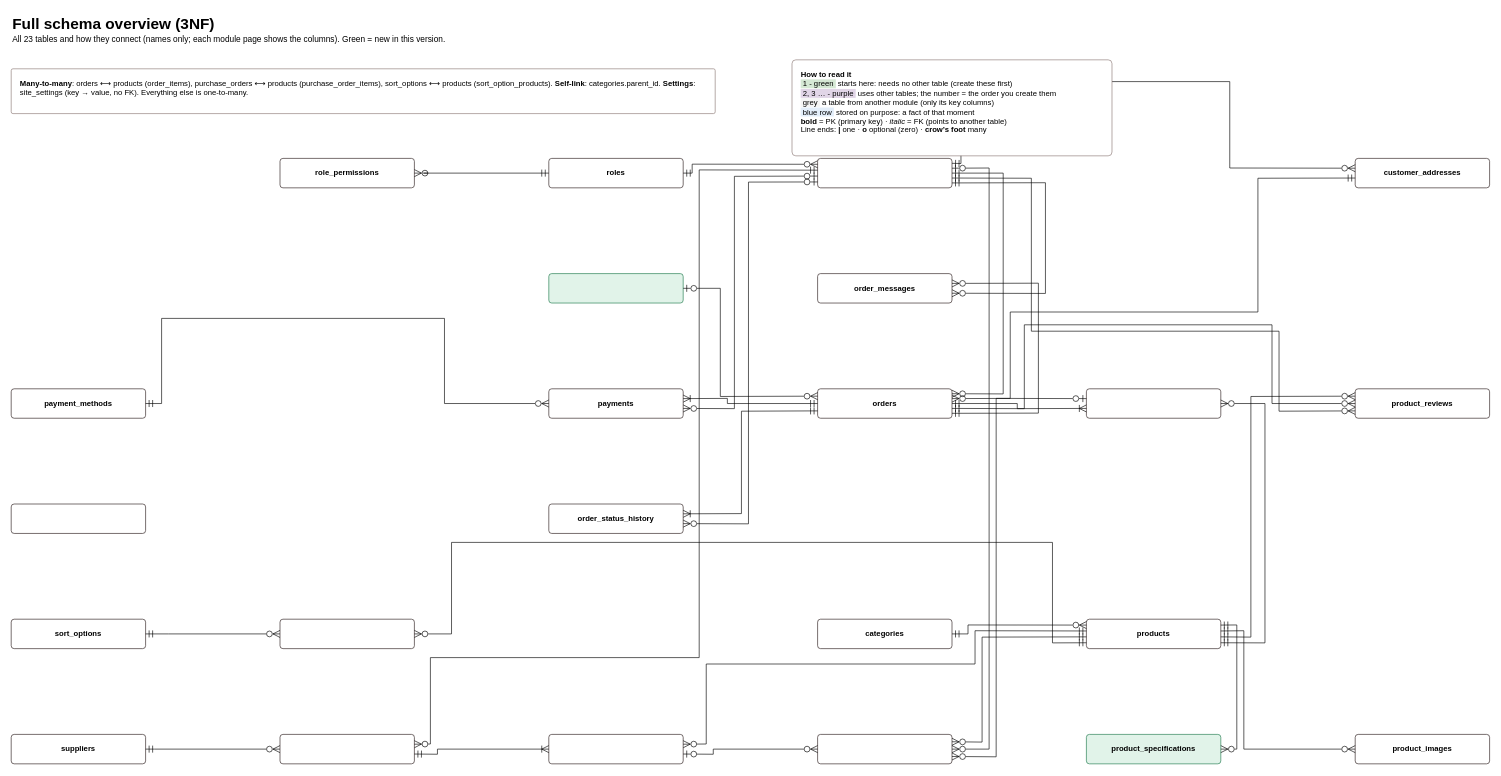
Image size: 1501x776. Some labels were removed from this diagram. Here are the shapes that lost their labels. From the top down, the centre of each, then its label:
At point (884, 173): "users".
At point (615, 288): "promo_codes".
At point (1153, 403): "order_items".
At point (78, 518): "site_settings".
At point (346, 634): "sort_option_products".
At point (346, 749): "purchase_orders".
At point (615, 749): "purchase_order_items".
At point (884, 749): "stock_movements".
